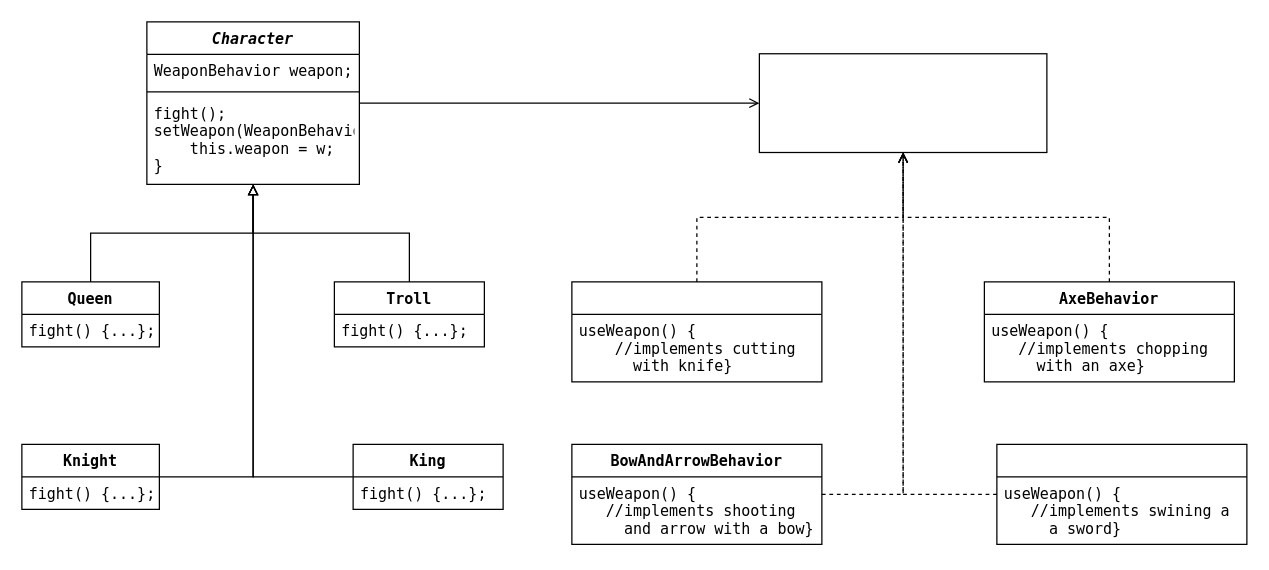
Image size: 1269x570. Some labels were removed from this diagram. The box of each missing label's shape, as (x1, y1, x2, y2) in pixels:
<<Interface>> WeaponBehavior useWeapon();: (758, 52, 1047, 152)
KnifeBehavior: (571, 281, 822, 382)
SwordBehavior: (996, 443, 1247, 544)
